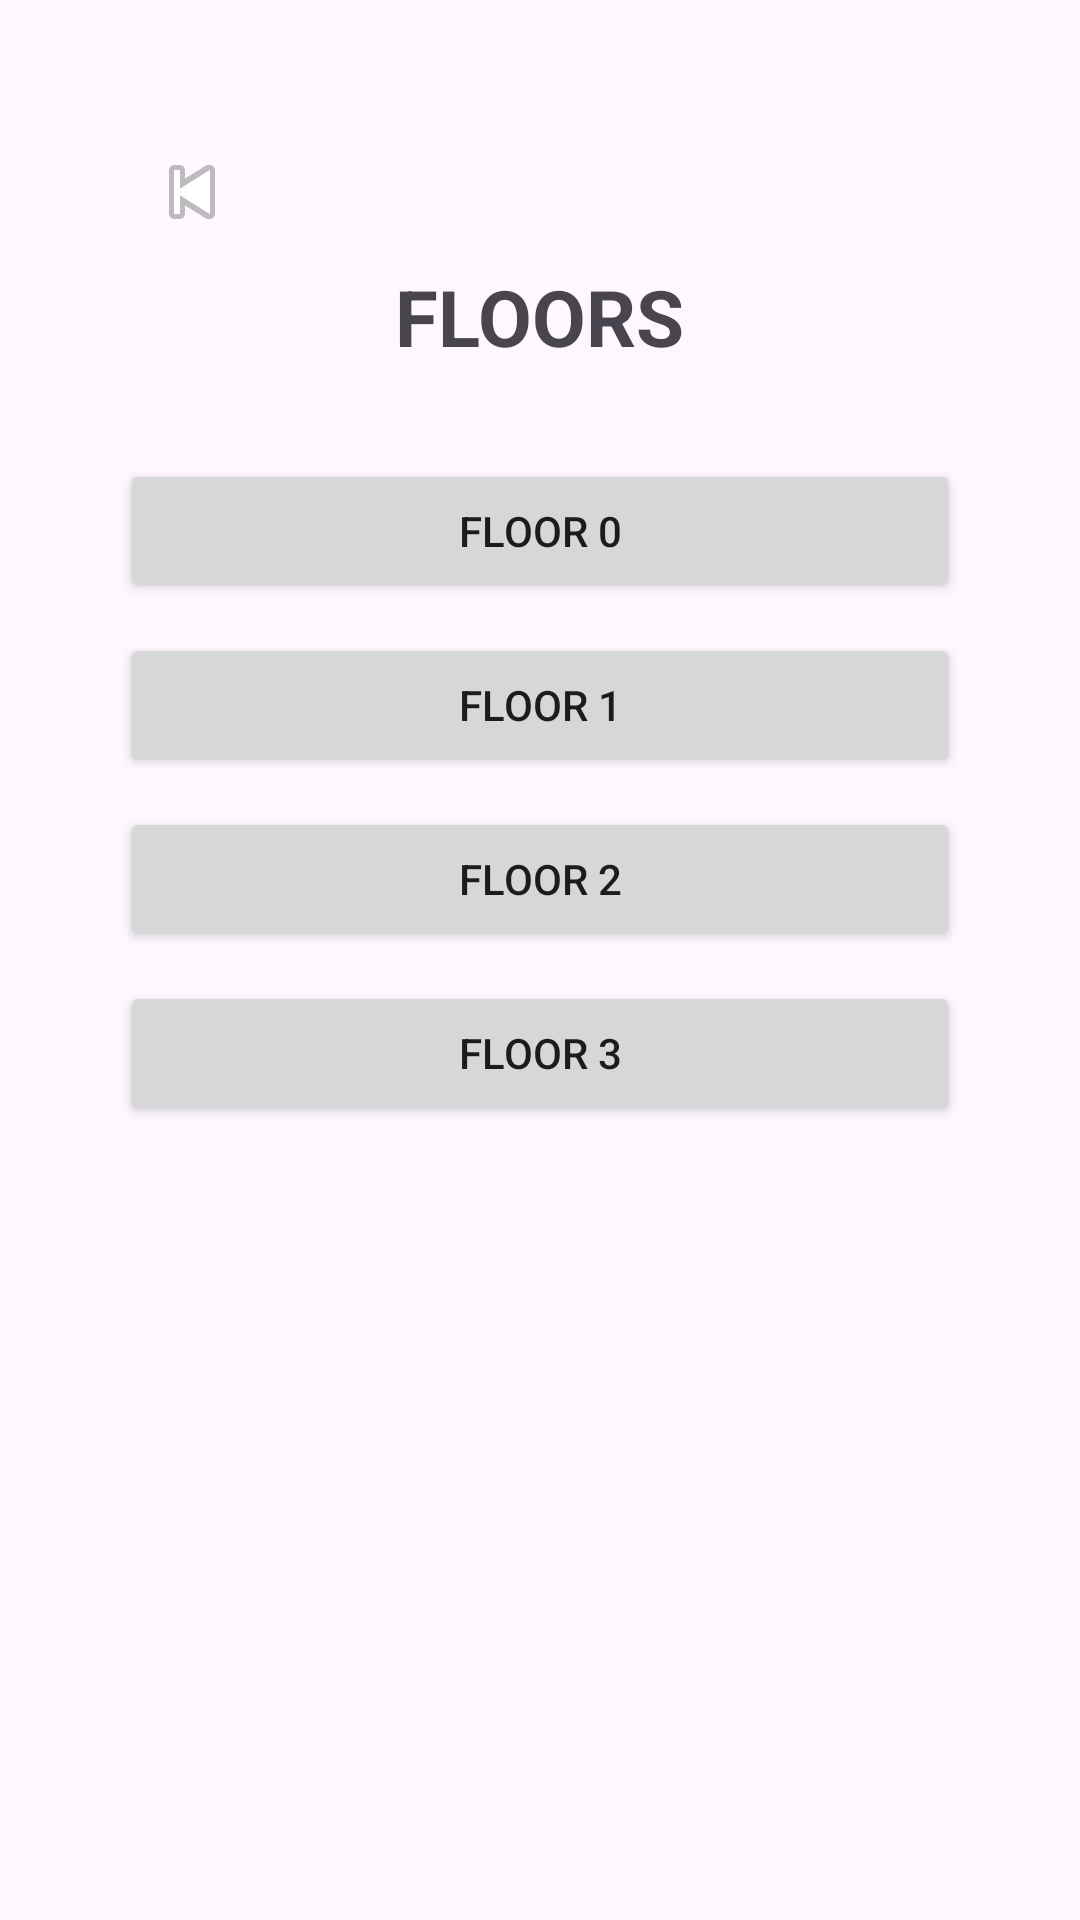

Locate icon controls on the screen. Image size 1080×1920, boxes as bbox(x1, y1, x2, y2).
previous: bbox(169, 165, 215, 219)
